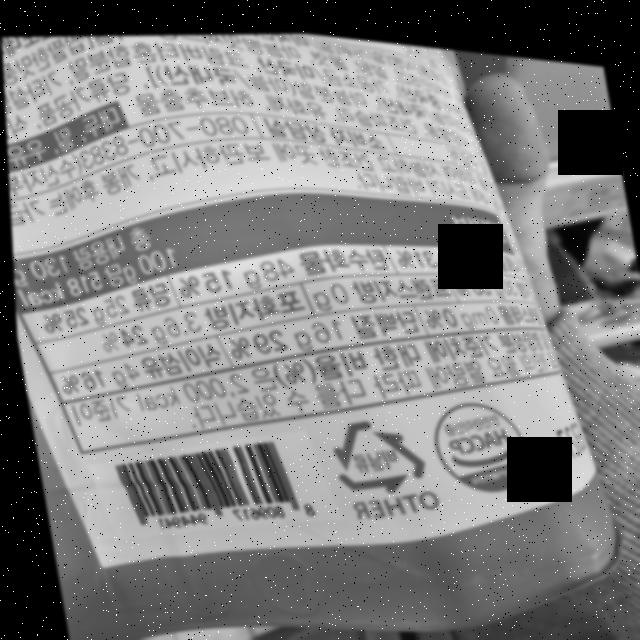Vinyl: (320, 396, 430, 498)
